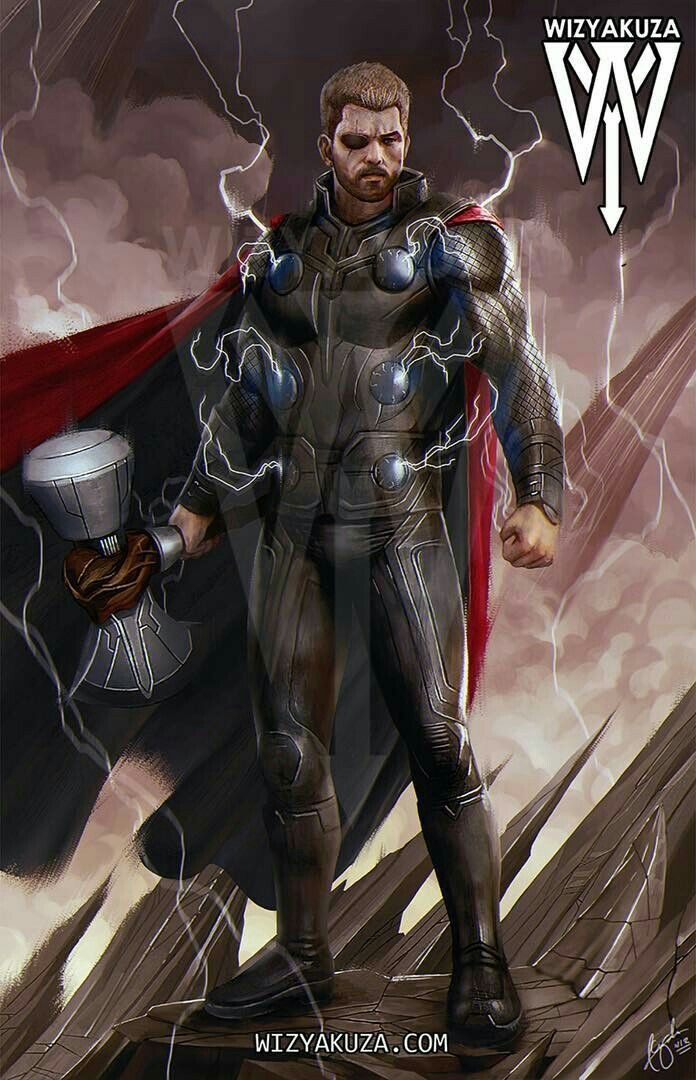THOR Hammer: (21, 430, 289, 674)
